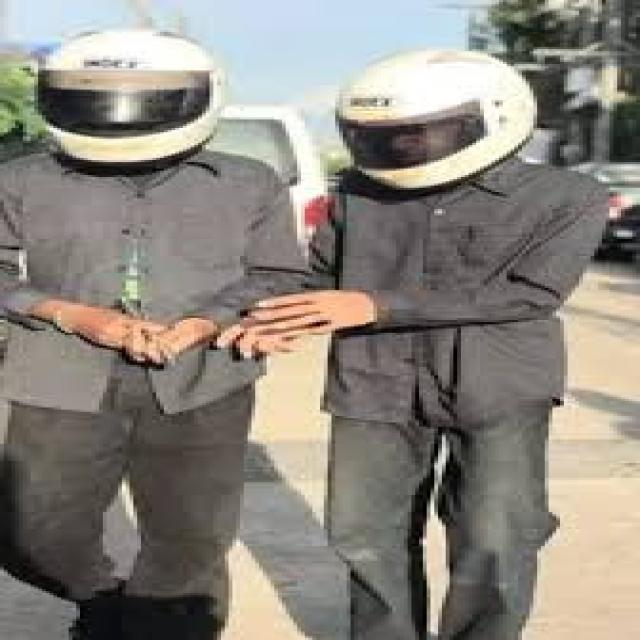helmet: (325, 41, 555, 196), (24, 28, 219, 179)
